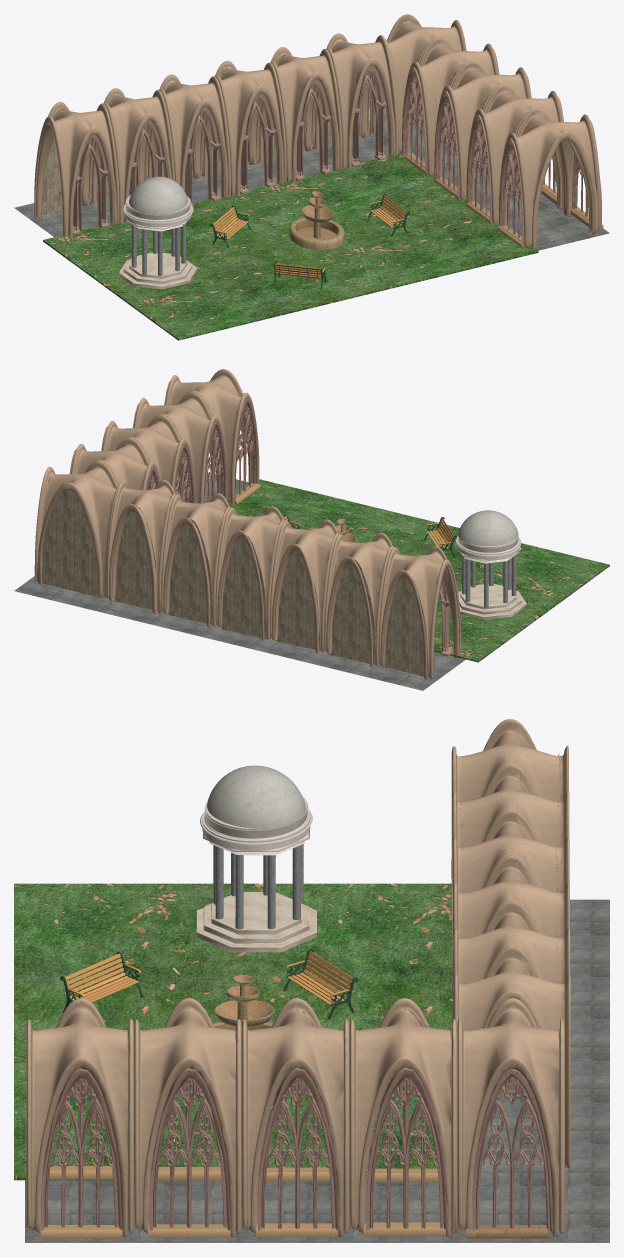
The model's file is hidden-garden.glb.
3 renders of one model, top to bottom at view 1: azimuth 30°, elevation 25°; view 2: azimuth 150°, elevation 25°; view 3: azimuth 270°, elevation 25°, orthographic. The views are drawn at different scales.
Visible parts, largest first — view 1: Cylinder.001, Plane.004, Circle.001, Plane.003, Arch Mansion.004, Circle.017, Circle.018, Circle.015, Circle.002, Sphere.001, Cylinder.007, Cube (+7 smaller); view 2: Cylinder.001, Circle.018, Plane.004, Plane.003, Circle.001, Sphere.001, Circle.002, Cylinder.007, Circle.004, Plane.010; view 3: Cylinder.001, Plane.004, Plane.003, Circle.001, Cube, Circle.011, Circle.002, Sphere.001, Cylinder.007, Circle.004, Plane.010, Plane.001 (+2 smaller).
Part boxes in pixels (x1,y1,x2,y2): Cylinder.001: (34,14,600,249); Plane.004: (43,152,538,340); Circle.001: (401,49,601,243); Plane.003: (14,122,609,250); Arch Mansion.004: (128,63,387,206); Circle.017: (133,74,378,201); Circle.018: (42,19,422,215); Circle.015: (289,191,344,250); Circle.002: (118,252,197,289); Sphere.001: (129,176,187,214); Cylinder.007: (131,223,186,275); Cube: (404,147,603,247); Cylinder.001: (35,369,461,679); Circle.018: (41,490,428,677); Plane.004: (228,479,609,662); Plane.003: (14,472,465,690); Circle.001: (69,381,259,503); Sphere.001: (458,510,518,545); Circle.002: (458,583,526,619); Cylinder.007: (462,554,516,607); Circle.004: (455,534,521,559); Plane.010: (424,517,456,557); Cylinder.001: (26,719,570,1237); Plane.004: (14,883,452,1180); Plane.003: (25,899,609,1242); Circle.001: (41,1008,447,1230); Cube: (40,1166,445,1238); Circle.011: (472,1069,553,1230); Circle.002: (196,892,316,952); Sphere.001: (207,765,305,828); Cylinder.007: (213,844,303,929); Circle.004: (200,796,312,850); Plane.010: (60,951,143,1012); Plane.001: (283,949,358,1019).
Bounding box in the file's own units: 18.36 × 4.69 × 13.04.
Materials: 17 (14 with a texture image).
